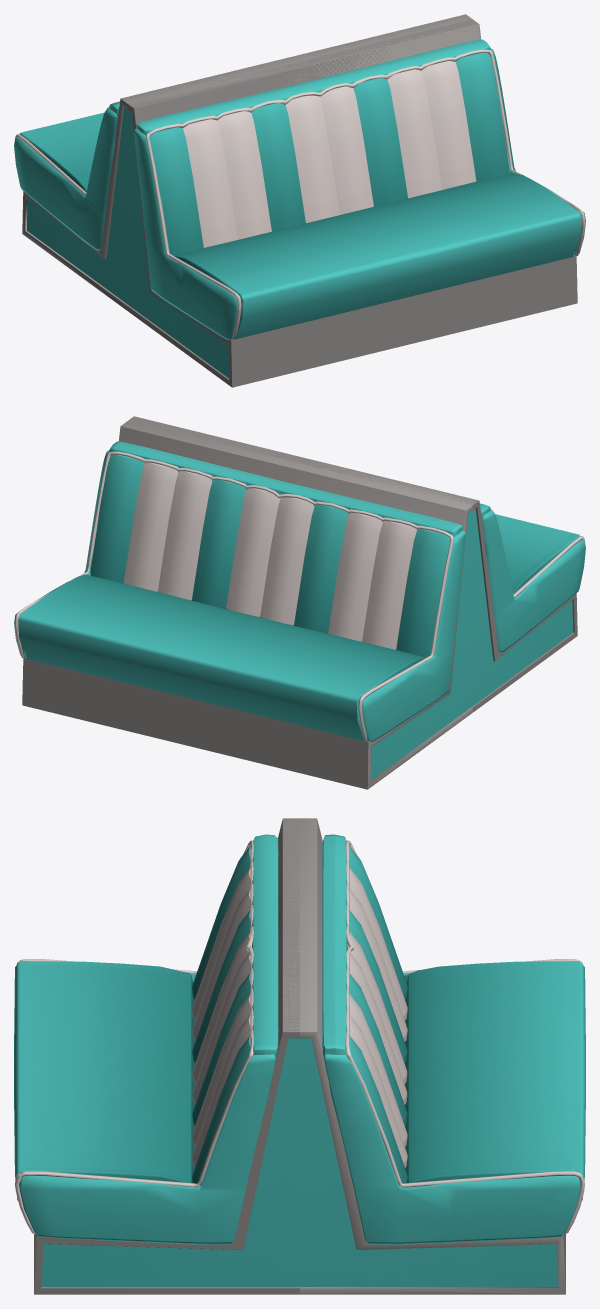
File: Sitting_Furniture.fbx
3 renders of one model, top to bottom at view 1: azimuth 30°, elevation 25°; view 2: azimuth 150°, elevation 25°; view 3: azimuth 270°, elevation 25°, orthographic. The views are drawn at different scales.
Visible parts, largest first — view 1: Bench_Single1, Bench_Back2Back1; view 2: Bench_Back2Back1, Bench_Single1; view 3: Bench_Back2Back1, Bench_Single1.
Part boxes in pixels (<box>): Bench_Single1: <box>127,19,585,387</box>; Bench_Back2Back1: <box>14,14,585,339</box>; Bench_Back2Back1: <box>14,416,585,789</box>; Bench_Single1: <box>127,416,585,712</box>; Bench_Back2Back1: <box>14,818,585,1294</box>; Bench_Single1: <box>15,818,299,1294</box>.
Size of the model in its own units: 1.87 by 1.07 by 2.06.
